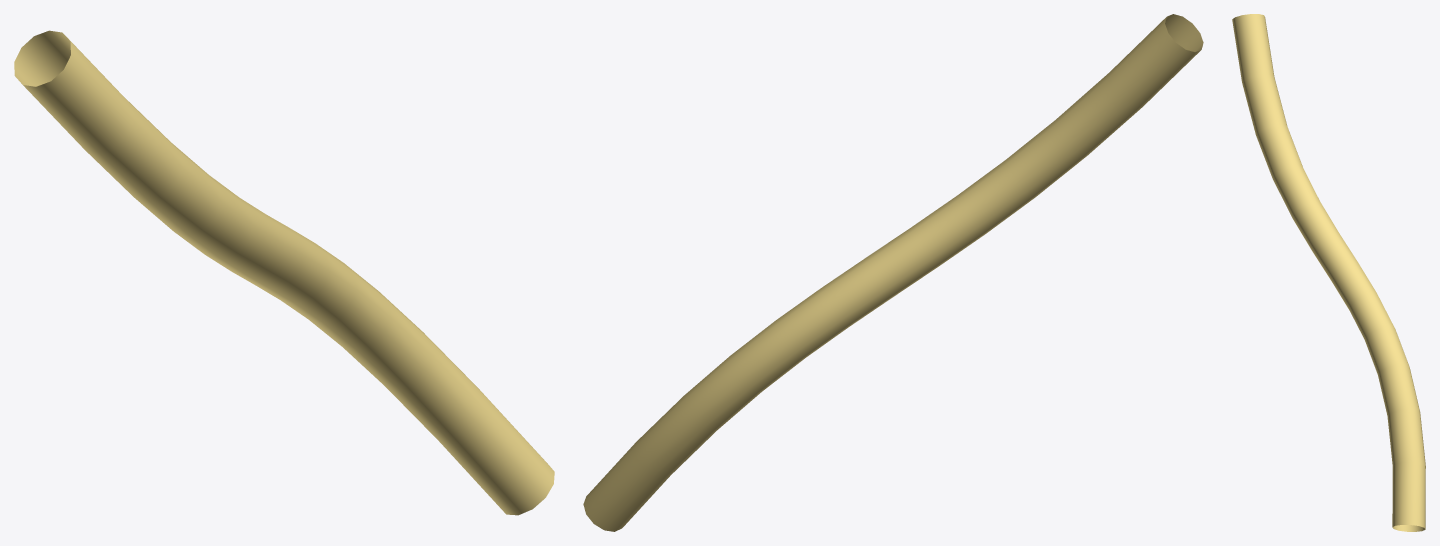
3 renders of one model, left to right at view 1: azimuth 30°, elevation 25°; view 2: azimuth 150°, elevation 25°; view 3: azimuth 270°, elevation 25°, orthographic. The views are drawn at different scales.
Visible parts, largest first — view 1: ZA_2b68a47eabf081d8; view 2: ZA_2b68a47eabf081d8; view 3: ZA_2b68a47eabf081d8.
Boxes of the visible parts, x1,y1,x2,y2 form: ZA_2b68a47eabf081d8: (14,30,554,515); ZA_2b68a47eabf081d8: (583,14,1203,531); ZA_2b68a47eabf081d8: (1232,14,1425,531).
Size of the model in its own units: 0.0358 by 0.0368 by 0.0174.
